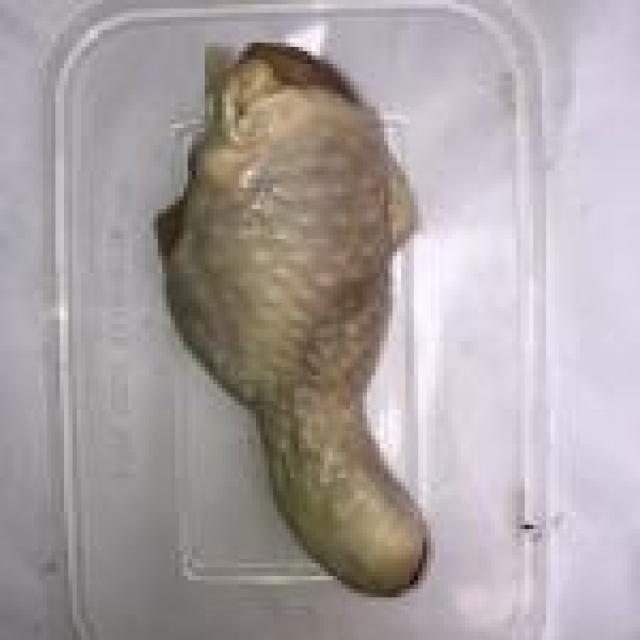leg: (152, 43, 460, 580)
